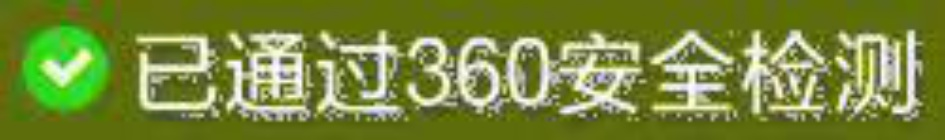CheckBox: (1, 1, 944, 139)
